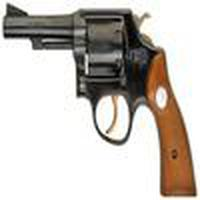gun: (2, 5, 200, 195)
